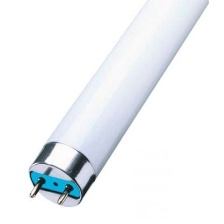light_bulb: (23, 0, 214, 209)
